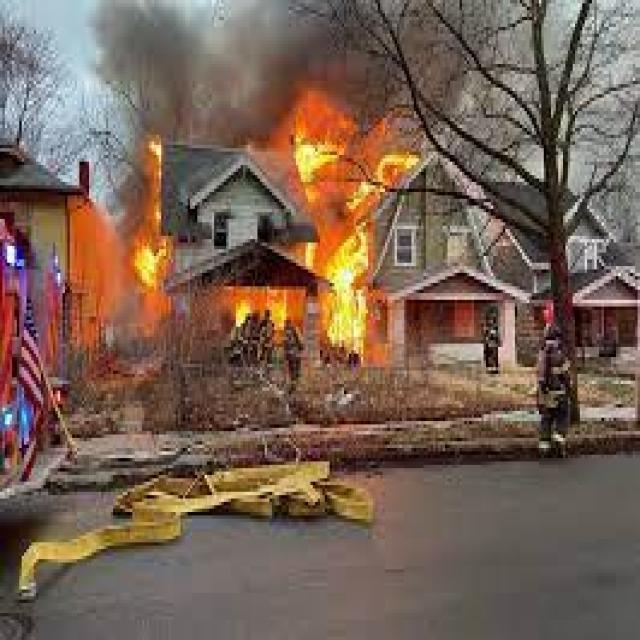Fire: (293, 108, 404, 366), (122, 134, 175, 338)
Smoke: (90, 0, 486, 163)
